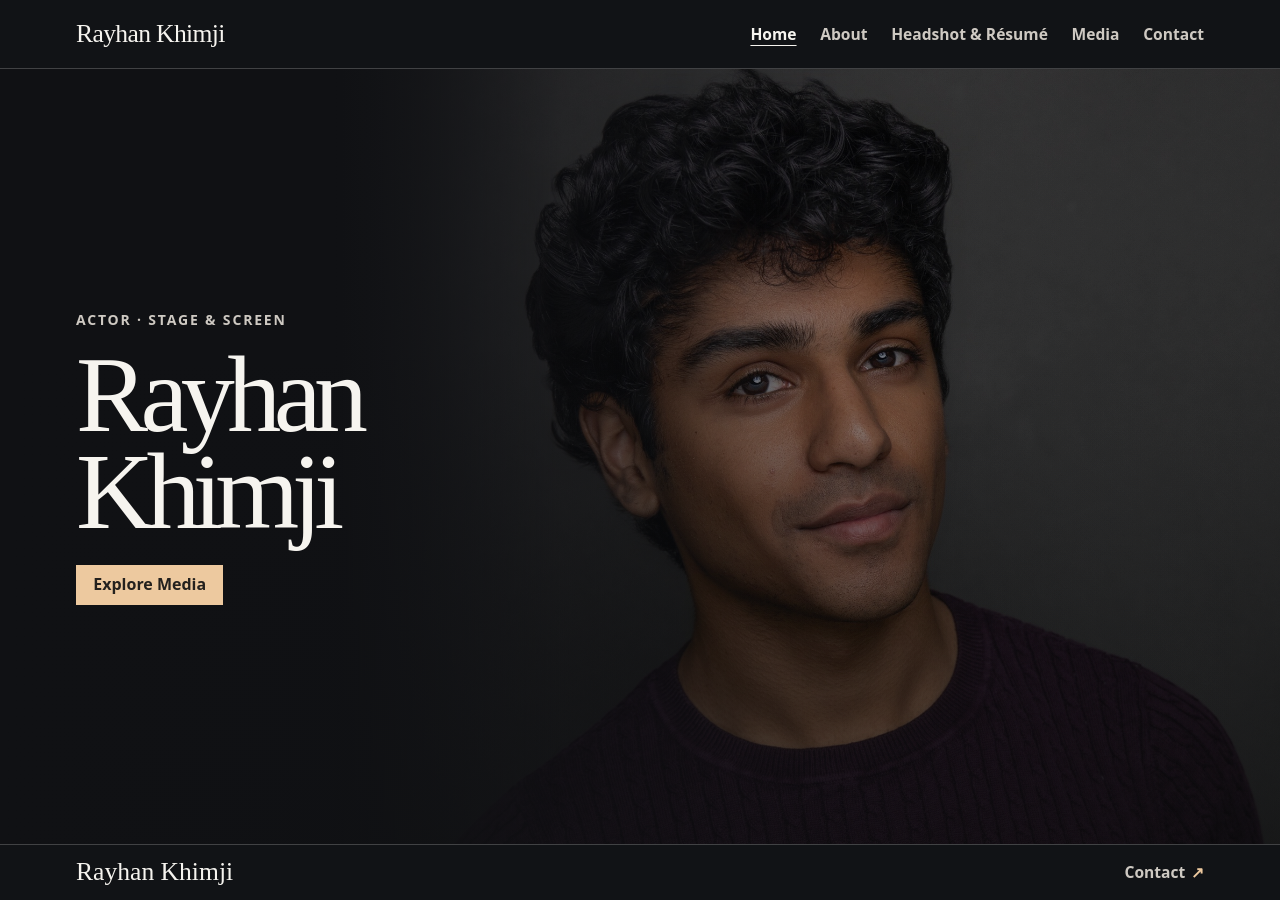
Test: portfolio › opens all five pages from the main navigation
Click the link "About": (844, 34) [820,25,868,43]
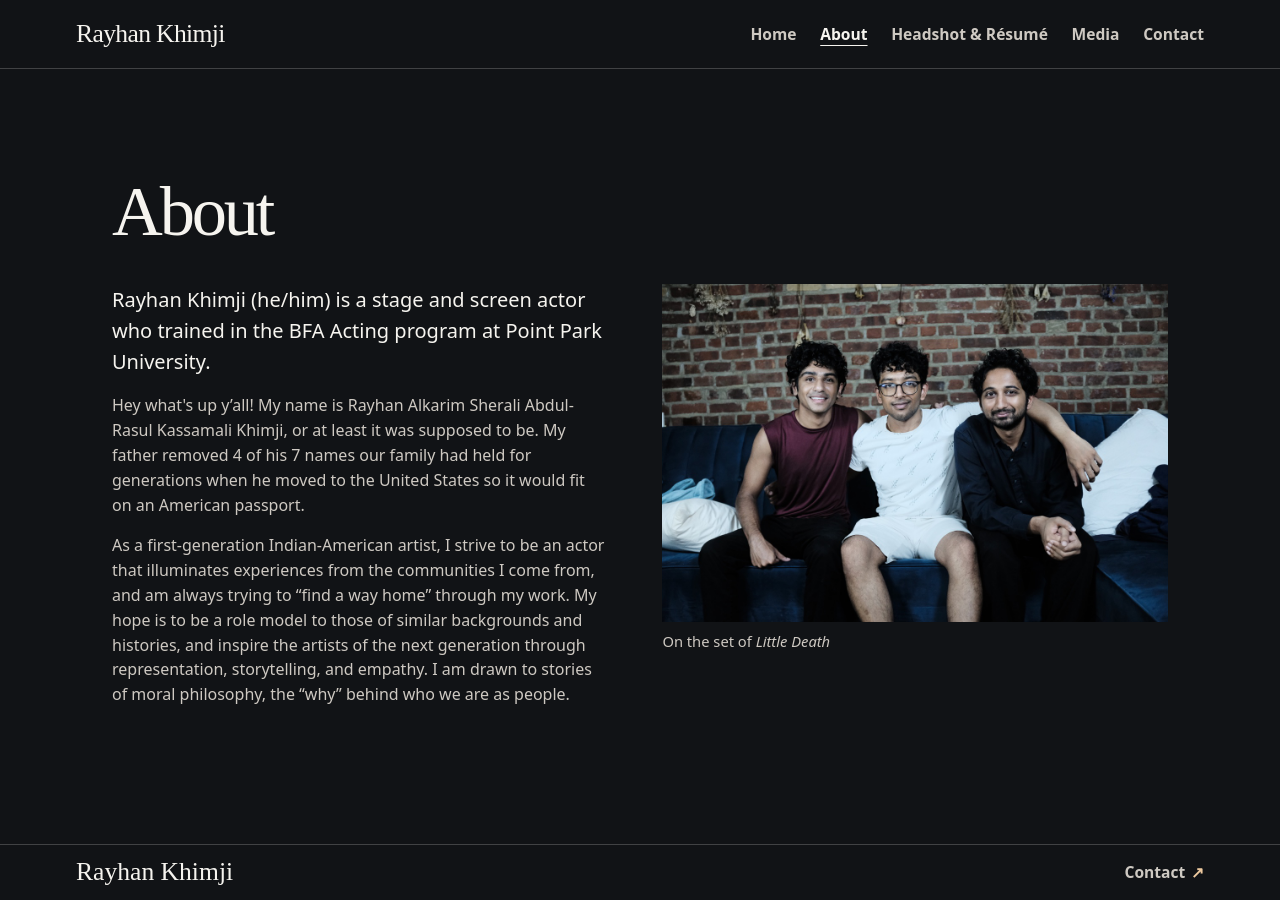
Result: the heading "About" is shown at [112,172,272,250]
Click the link "Headshot & Résumé": (970, 34) [891,25,1048,43]
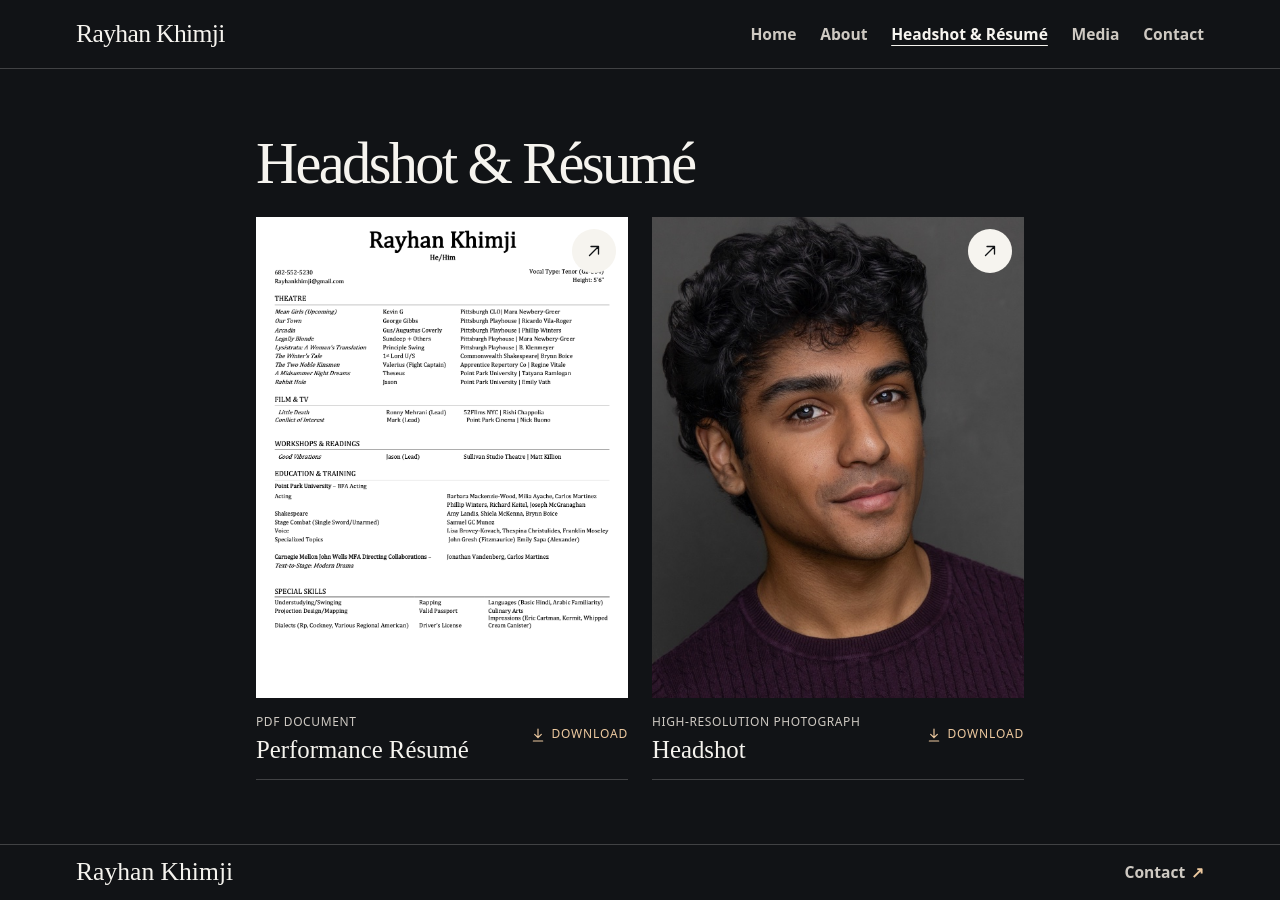
Result: the heading "Headshot & Résumé" is shown at [256,131,695,196]
Click the link "Media": (1096, 34) [1072,25,1120,43]
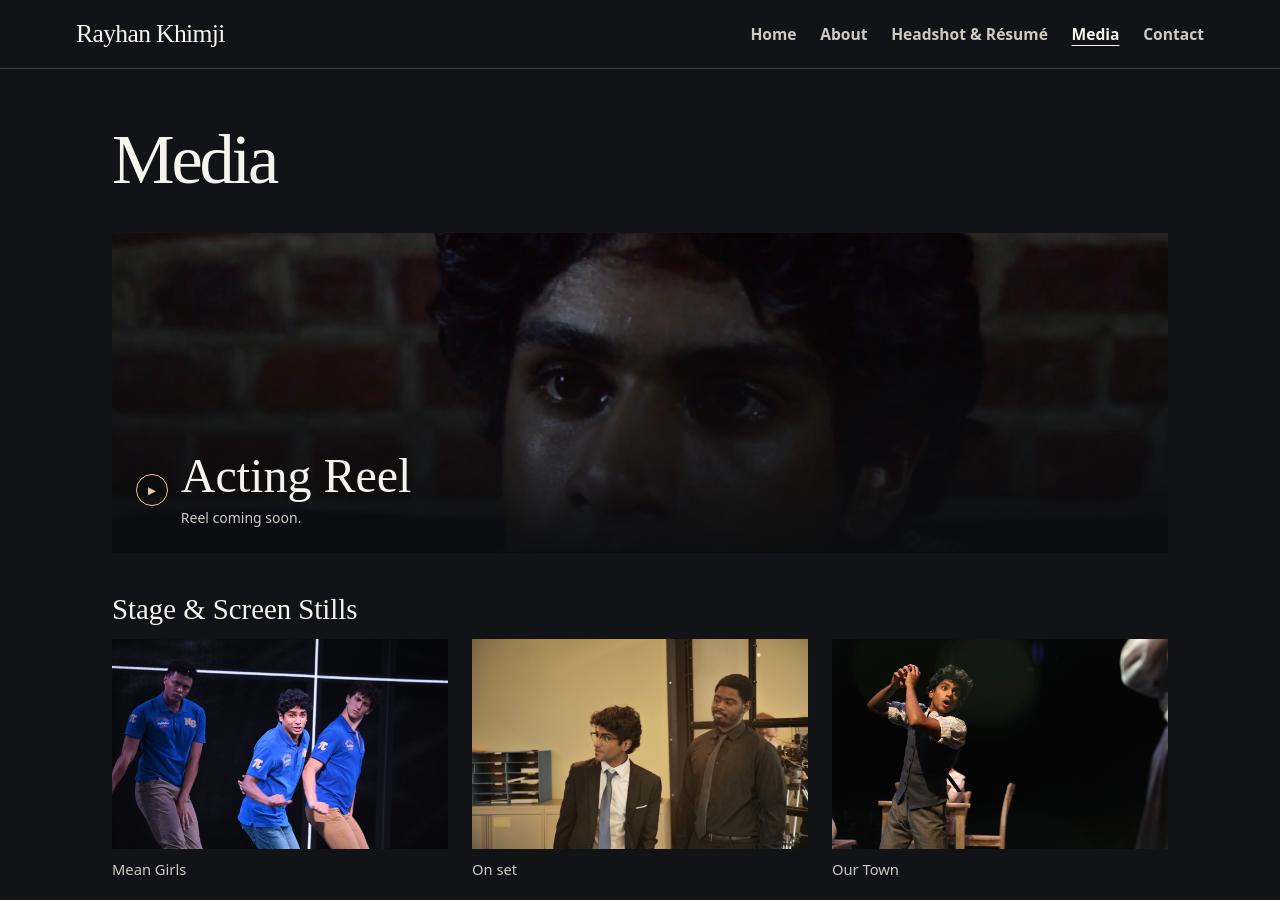
Result: the heading "Media" is shown at [112,120,276,198]
Click the link "Contact": (1174, 34) [1143,25,1204,43]
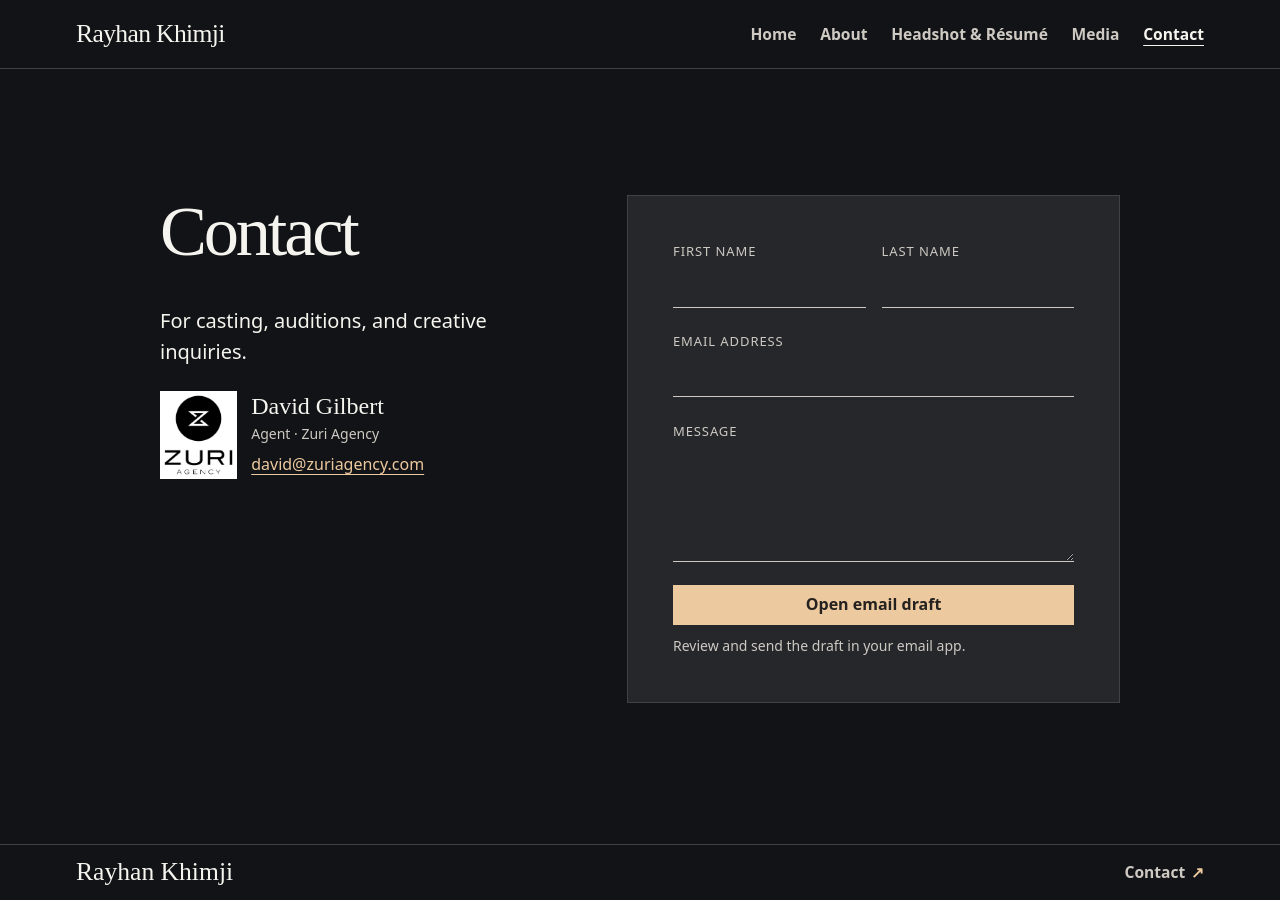
Result: the heading "Contact" is shown at [160,192,357,270]
Click the link "Home": (773, 34) [750,25,796,43]
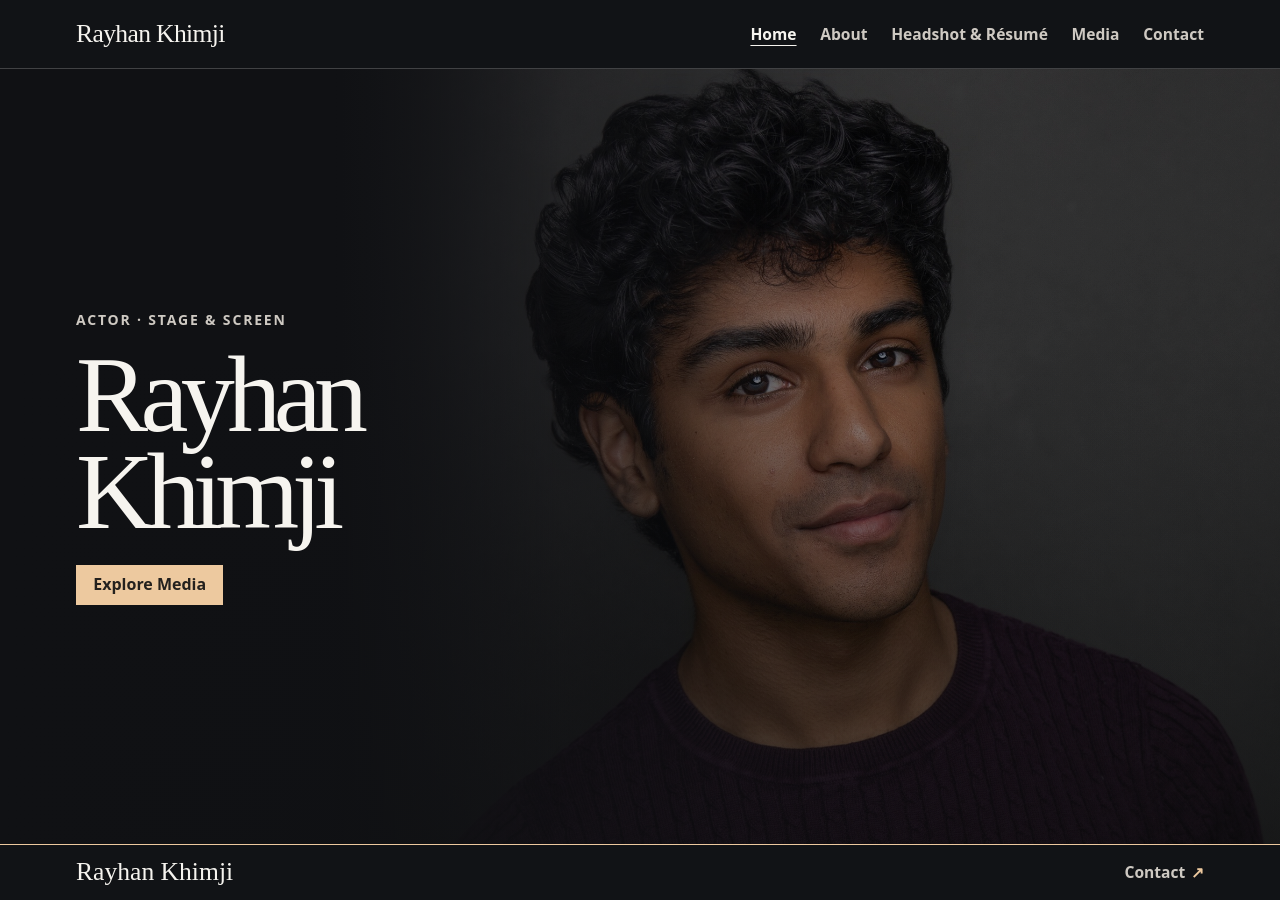
Result: the heading "Rayhan Khimji" is shown at [76,335,360,551]
